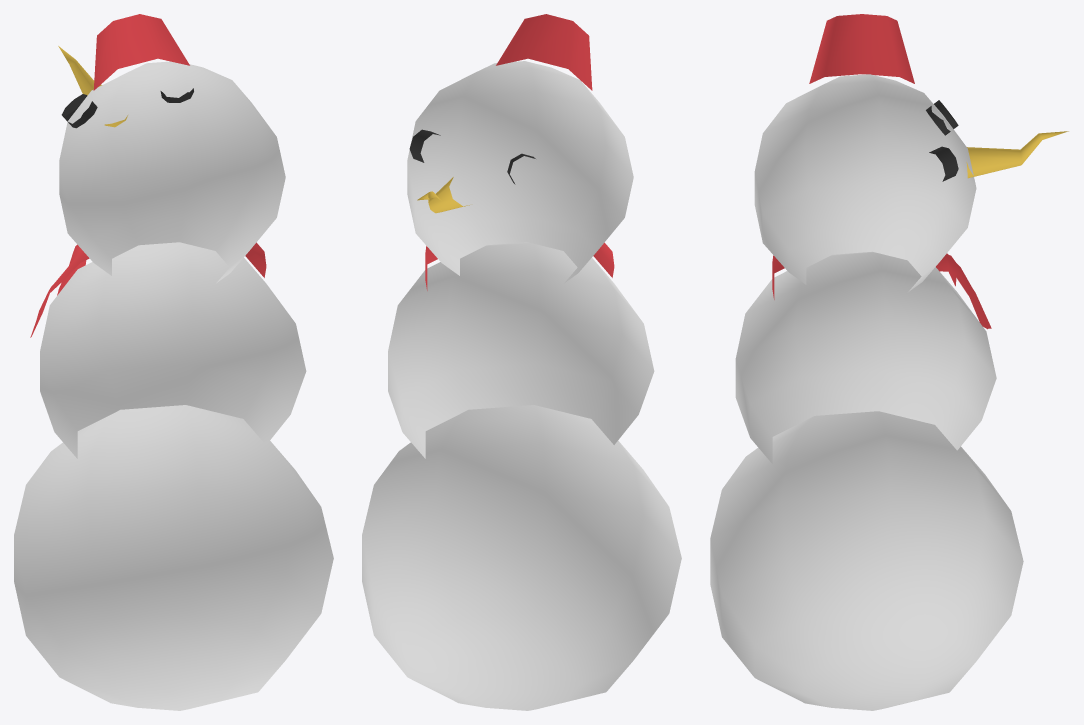
Rendered from ps2_save-icons_diamonddustplus-system.glb.
3 renders of one model, left to right at view 1: azimuth 30°, elevation 25°; view 2: azimuth 150°, elevation 25°; view 3: azimuth 270°, elevation 25°, orthographic. The views are drawn at different scales.
Parts seen in each view (by area): view 1: ico_dat.ico; view 2: ico_dat.ico; view 3: ico_dat.ico.
Part boxes in pixels (x1,y1,x2,y2): ico_dat.ico: (14,14,333,710); ico_dat.ico: (362,14,681,710); ico_dat.ico: (710,14,1068,710).
Bounding box in the file's own units: 2.09 × 4.8 × 2.36.
Materials: 1 (1 with a texture image).
